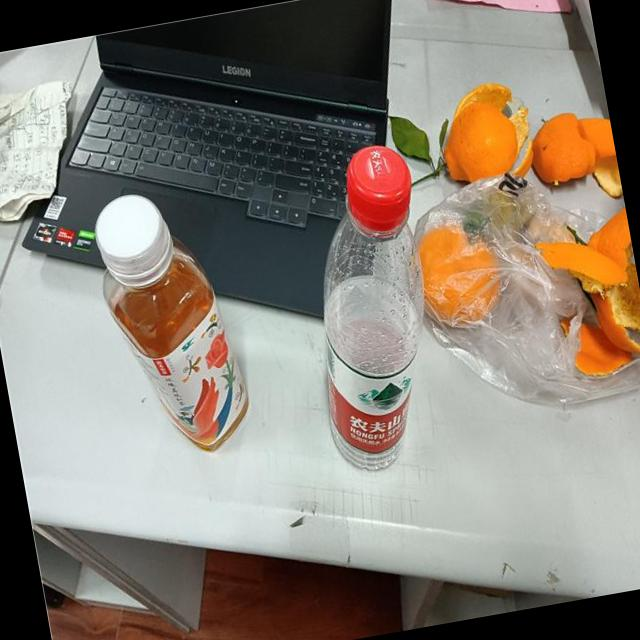orange-peel: (522, 198, 640, 392), (396, 68, 544, 210), (412, 223, 520, 349), (533, 70, 624, 214)
